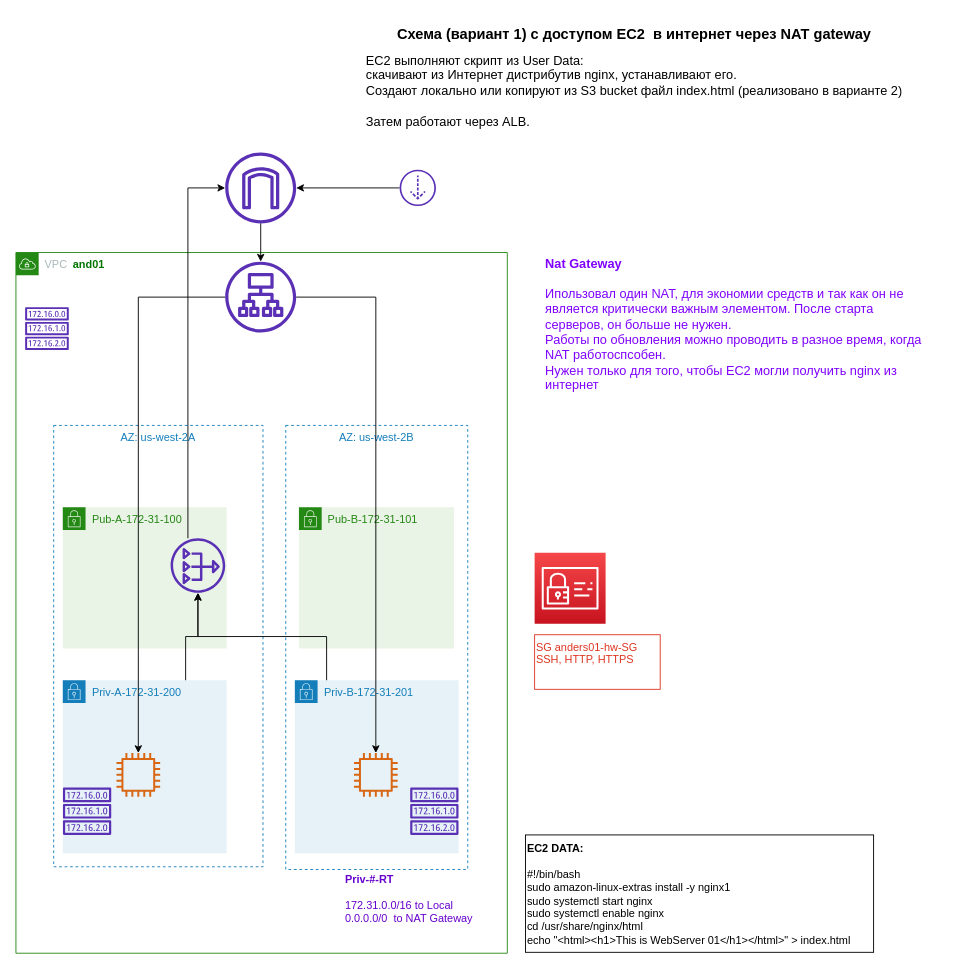
Image size: 958x969. Some labels were removed from this diagram. The centre of each missing label's shape, as x and y in pixels:
"NGINX distrib" belongs at point (417, 187).
"Priv-A RT" belongs at point (86, 810).
"Priv-B RT" belongs at point (434, 810).
"VPC RT" belongs at point (46, 328).
